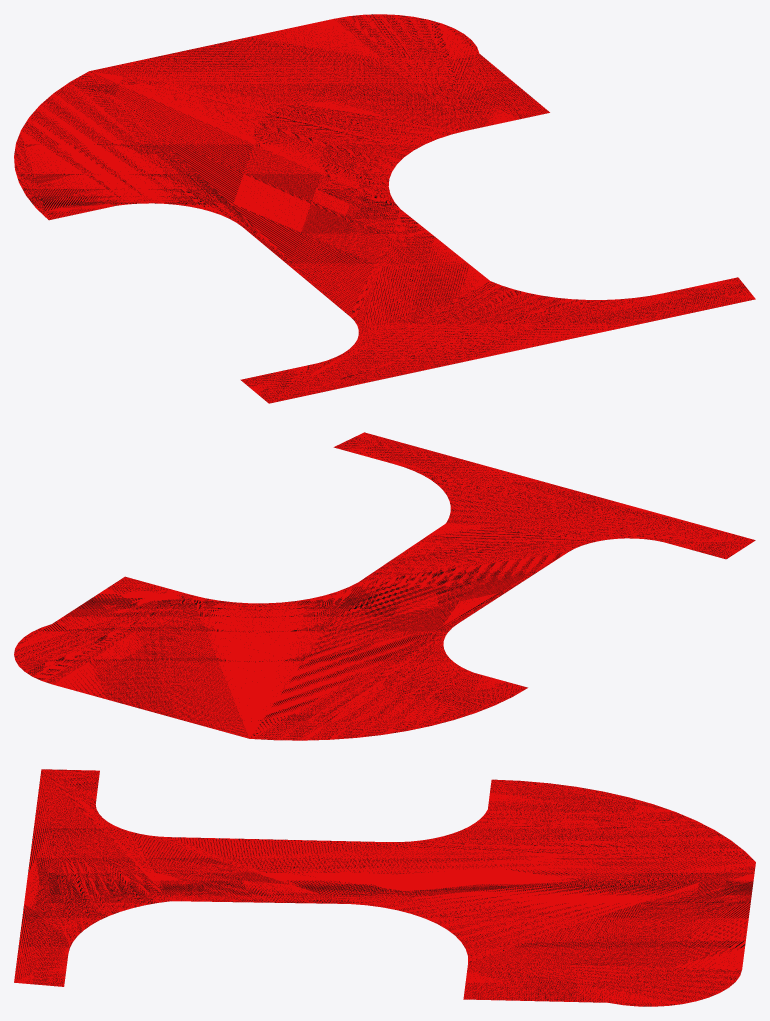
The model's file is original-83.obj.
The picture shows the model from 3 angles, top to bottom: view 1: azimuth 30°, elevation 25°; view 2: azimuth 150°, elevation 25°; view 3: azimuth 270°, elevation 25°; orthographic projection. The views are drawn at different scales.
Visible parts, largest first — view 1: mesh39/mesh39-geometry/material_0/component_1#mesh39-geometry; view 2: mesh39/mesh39-geometry/material_0/component_1#mesh39-geometry; view 3: mesh39/mesh39-geometry/material_0/component_1#mesh39-geometry.
Part boxes in pixels (x1,y1,x2,y2): mesh39/mesh39-geometry/material_0/component_1#mesh39-geometry: (14, 14, 755, 403); mesh39/mesh39-geometry/material_0/component_1#mesh39-geometry: (14, 432, 755, 740); mesh39/mesh39-geometry/material_0/component_1#mesh39-geometry: (14, 769, 755, 1006).
Bounding box in the file's own units: 0.2958 × 0 × 0.3905.
